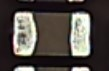COMP: (8, 8, 95, 61)
GAP: (13, 38, 90, 71)
